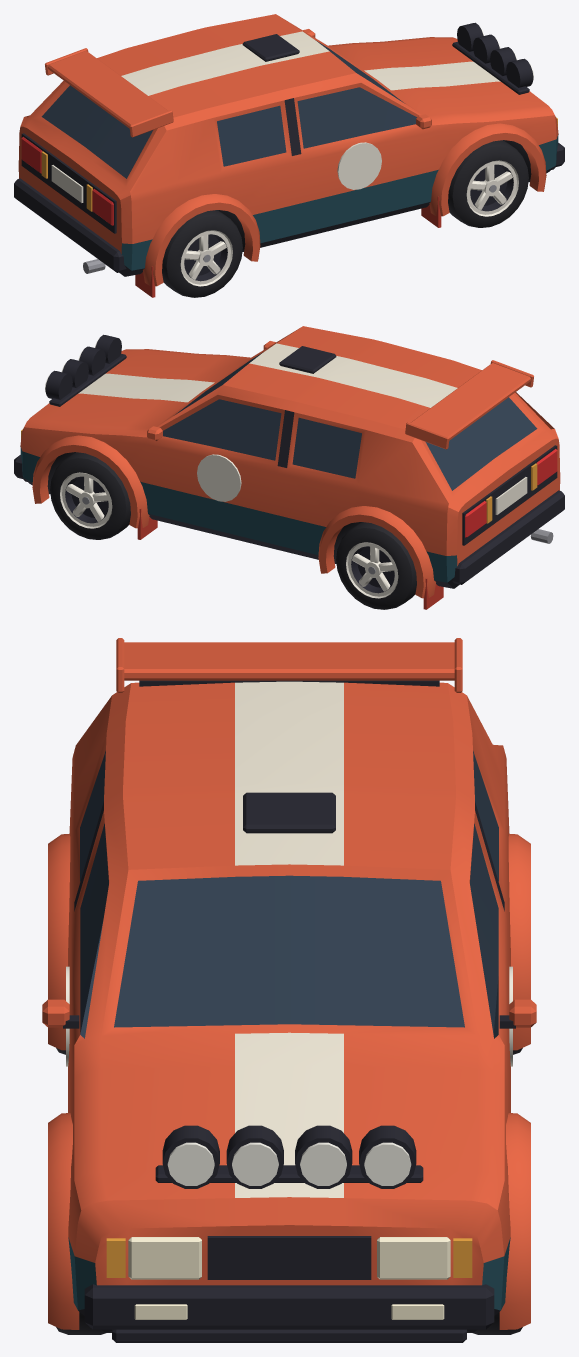
The model's file is car.glb.
The picture shows the model from 3 angles, top to bottom: view 1: azimuth 30°, elevation 25°; view 2: azimuth 150°, elevation 25°; view 3: azimuth 270°, elevation 25°; orthographic projection. The views are drawn at different scales.
Parts seen in each view (by area): view 1: body, wheel_fr, wheel_rr; view 2: body, wheel_fl, wheel_rl; view 3: body.
Part boxes in pixels (x1=…): body: x1=14, y1=14, x2=564, y2=297; wheel_fr: x1=448, y1=140, x2=528, y2=227; wheel_rr: x1=162, y1=210, x2=242, y2=297; body: x1=14, y1=326, x2=564, y2=609; wheel_fl: x1=50, y1=452, x2=130, y2=539; wheel_rl: x1=336, y1=522, x2=416, y2=609; body: x1=42, y1=638, x2=536, y2=1342.
Size of the model in its own units: 3.88 by 1.47 by 1.81.
